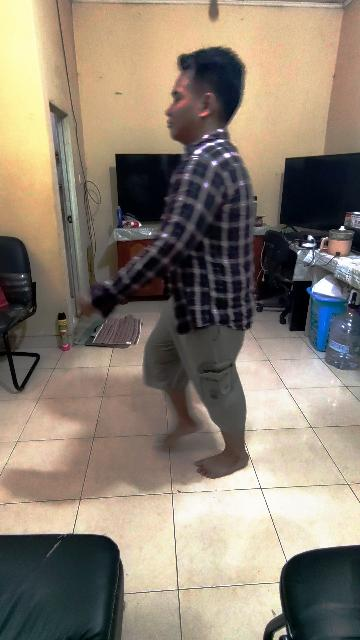berjalan: (79, 46, 253, 478)
